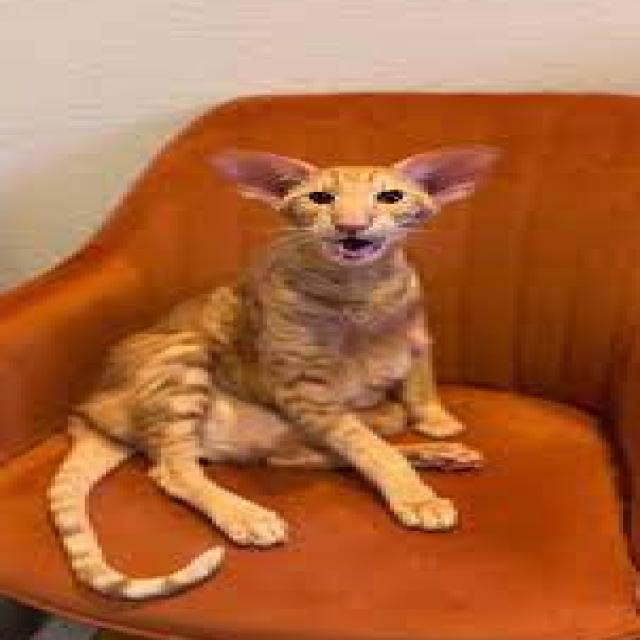Oriental: (30, 143, 514, 607)
